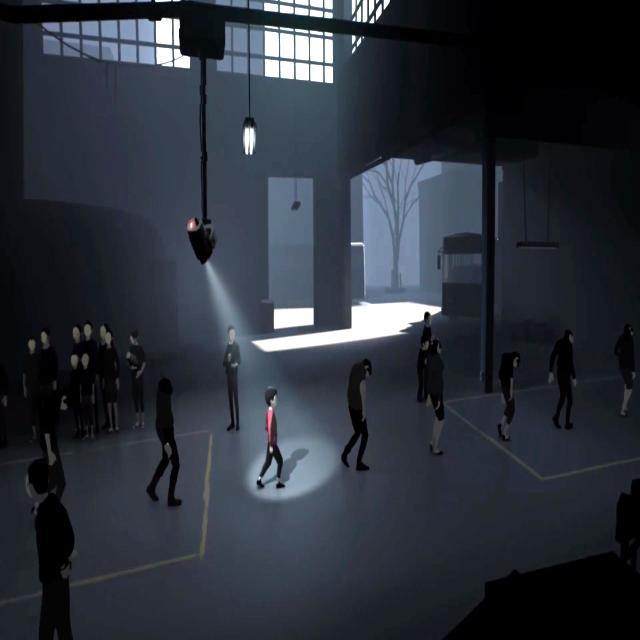boy: (255, 387, 284, 490)
human: (39, 328, 60, 449), (126, 330, 147, 430), (223, 324, 241, 430), (22, 337, 39, 444), (101, 330, 118, 436), (65, 336, 81, 446), (416, 310, 434, 404), (81, 351, 94, 438), (82, 322, 94, 349)
zombie: (145, 374, 181, 507), (341, 358, 373, 471), (552, 330, 577, 430), (497, 350, 522, 442), (426, 344, 445, 455), (614, 324, 635, 419)
